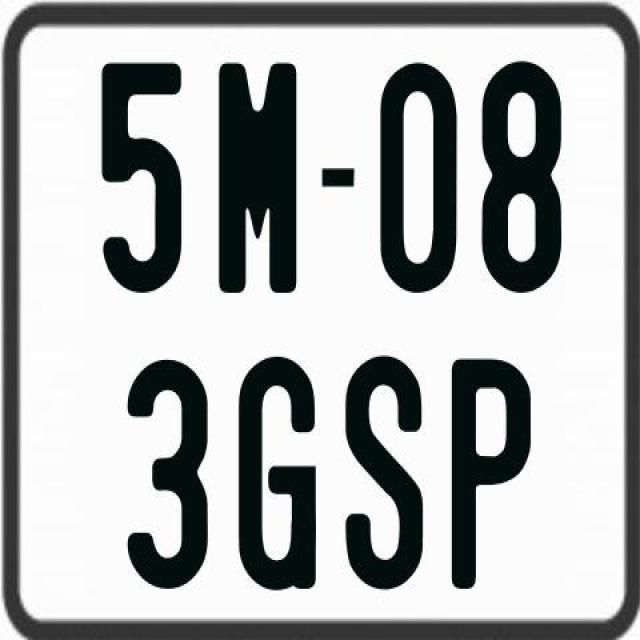0: (379, 58, 457, 290)
3: (128, 357, 216, 592)
5: (99, 58, 184, 298)
8: (481, 59, 568, 299)
G: (237, 356, 316, 588)
M: (218, 62, 304, 296)
P: (452, 357, 531, 590)
S: (345, 354, 427, 588)
